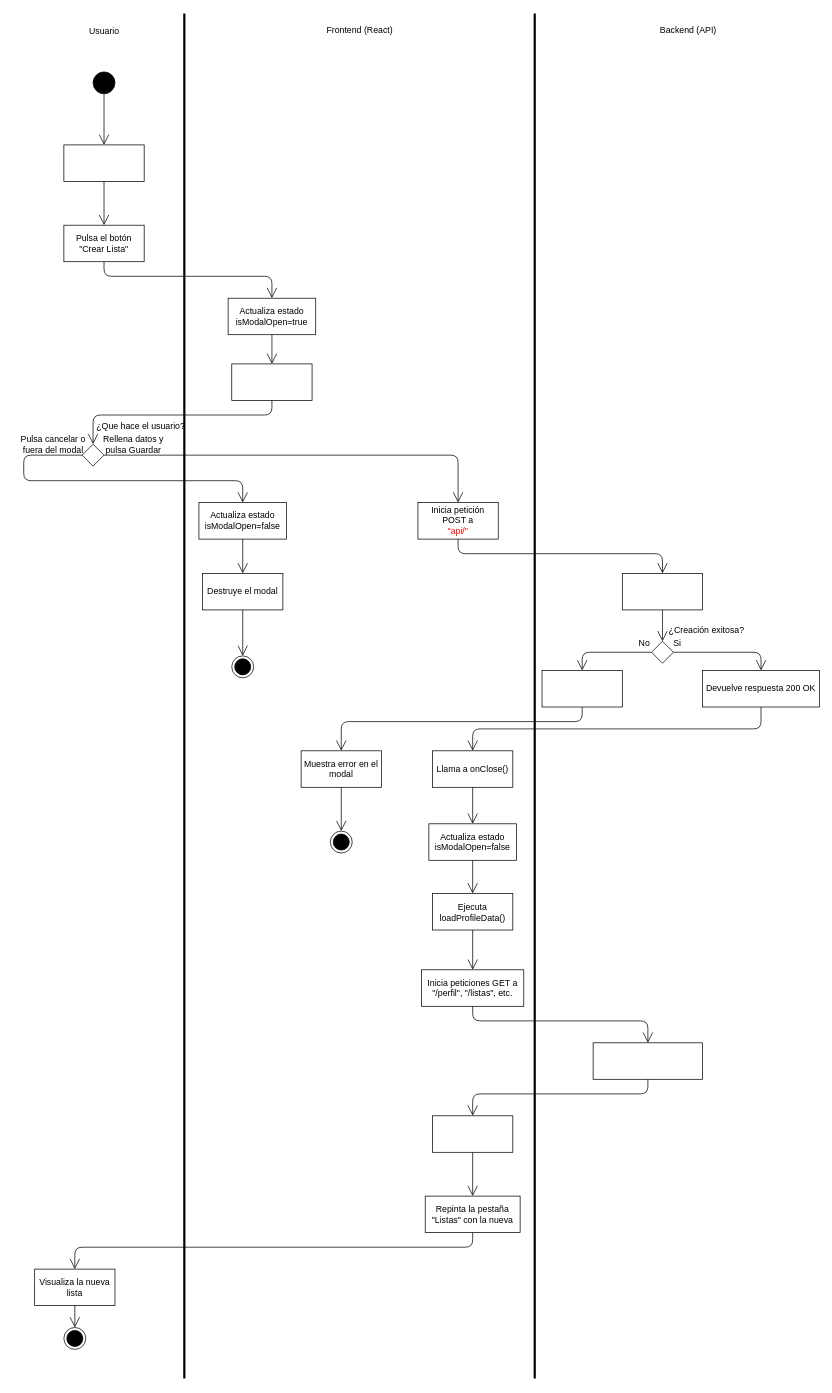
Image size: 832x1393. Some labels were removed from this diagram. The shapes that lost their labels are listed below. From the top down, each one's centre as x and y in pixels, then its label:
the point at 103,162: Selecciona la pestaña "Listas"
the point at 271,381: Muestra modal ListCreator
the point at 662,591: Procesa datos y actualiza la BBDD
the point at 581,688: Devuelve error
the point at 647,1060: Devuelve los datos actualizados del usuario
the point at 472,1133: Actualiza estados
